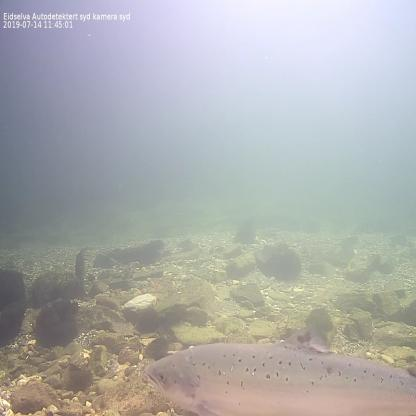salmon: (140, 315, 416, 416)
